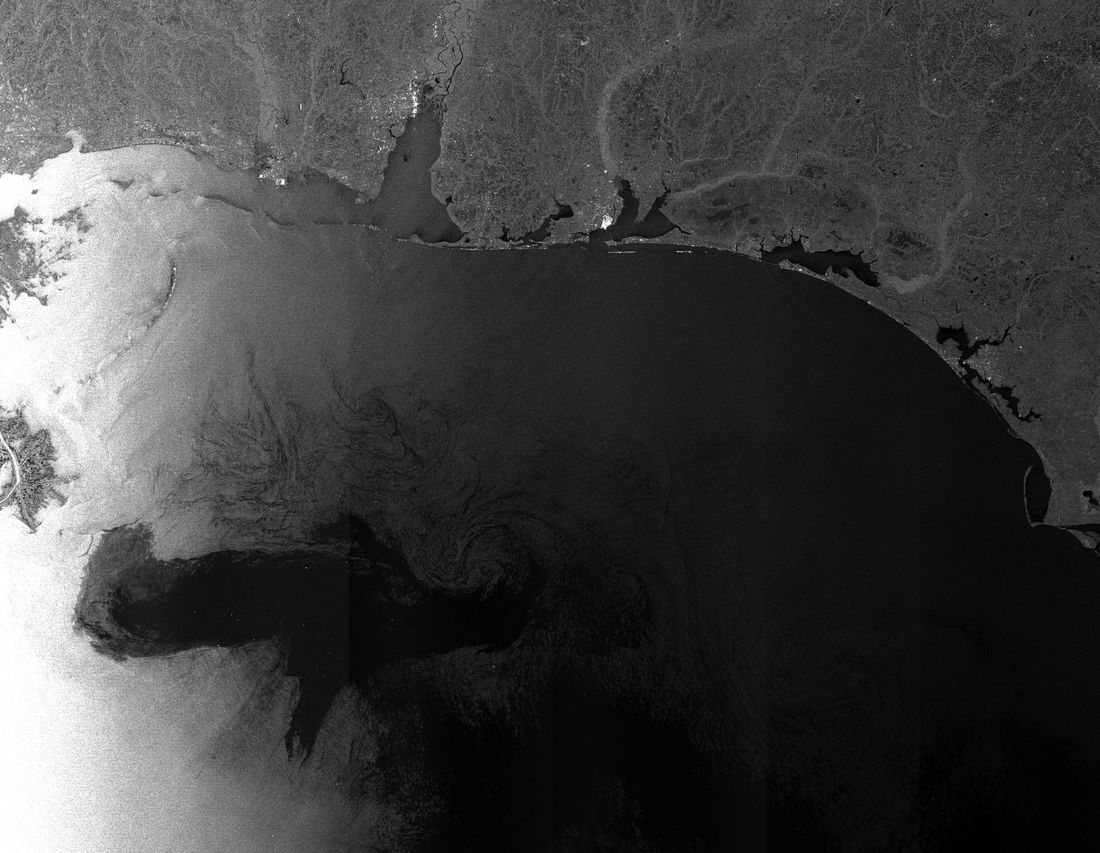anomaly: (61, 513, 548, 743)
